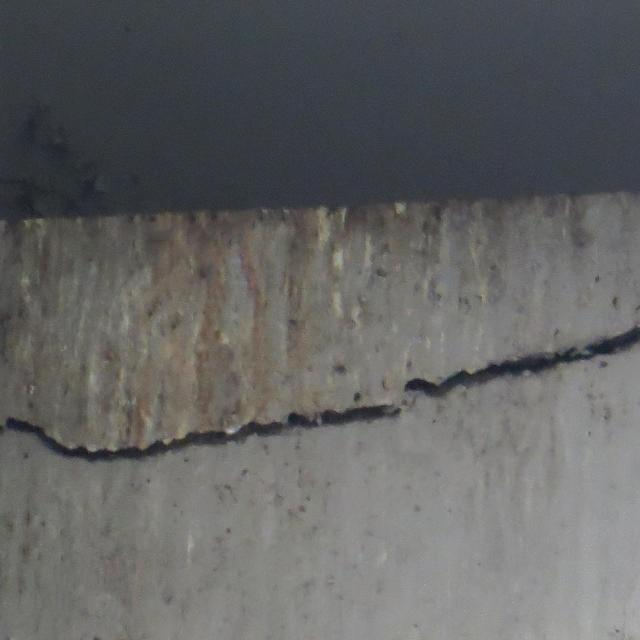horizontal crack: (0, 323, 640, 465)
